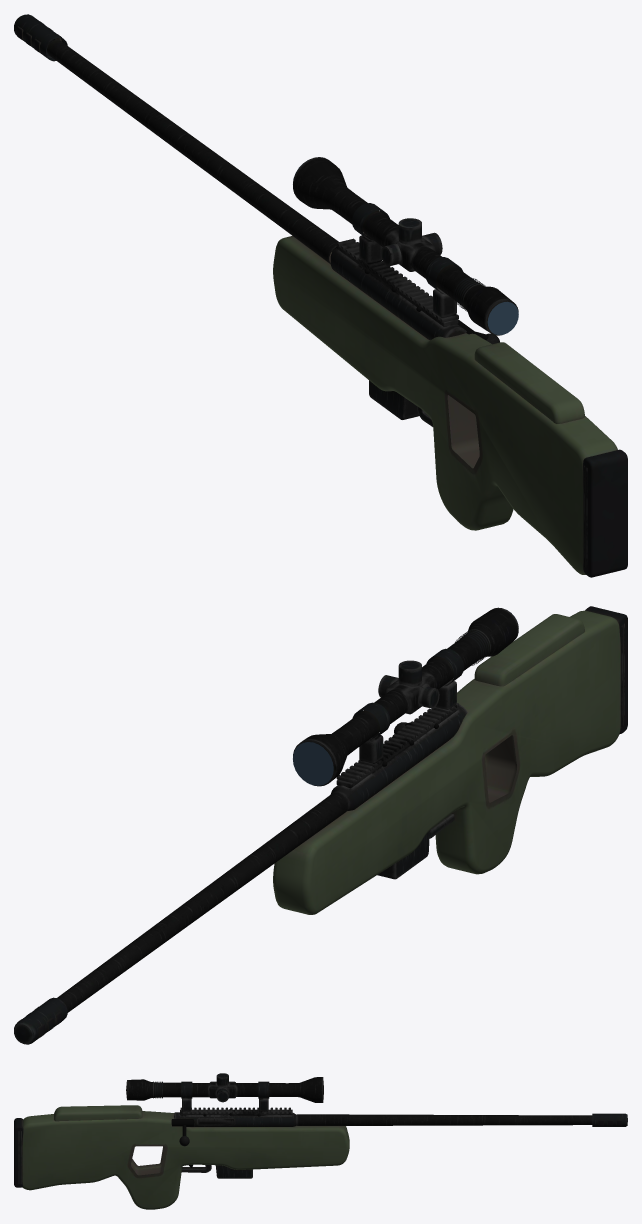
The model's file is awp.glb.
3 views of the same model, one above another, from view 1: azimuth 30°, elevation 25°; view 2: azimuth 150°, elevation 25°; view 3: azimuth 270°, elevation 25° (orthographic). The views are drawn at different scales.
Visible parts, largest first — view 1: body_furniture, body_receiver, body_metal, awp; view 2: body_furniture, body_receiver, body_metal, awp; view 3: body_furniture, body_receiver, body_metal, bolt_metal.
Part boxes in pixels (x1=…): body_furniture: x1=273, y1=236, x2=617, y2=574; body_receiver: x1=14, y1=14, x2=587, y2=568; body_metal: x1=17, y1=21, x2=627, y2=577; awp: x1=293, y1=160, x2=518, y2=335; body_furniture: x1=273, y1=610, x2=620, y2=914; body_receiver: x1=14, y1=607, x2=624, y2=1044; body_metal: x1=17, y1=606, x2=627, y2=1037; awp: x1=293, y1=610, x2=518, y2=785; body_furniture: x1=22, y1=1105, x2=349, y2=1209; body_receiver: x1=18, y1=1073, x2=627, y2=1183; body_metal: x1=14, y1=1109, x2=621, y2=1187; bolt_metal: x1=171, y1=1119, x2=194, y2=1135.
Bounding box in the file's own units: 0.1016 × 0.3199 × 1.36.
Materials: 6 (5 with a texture image).
